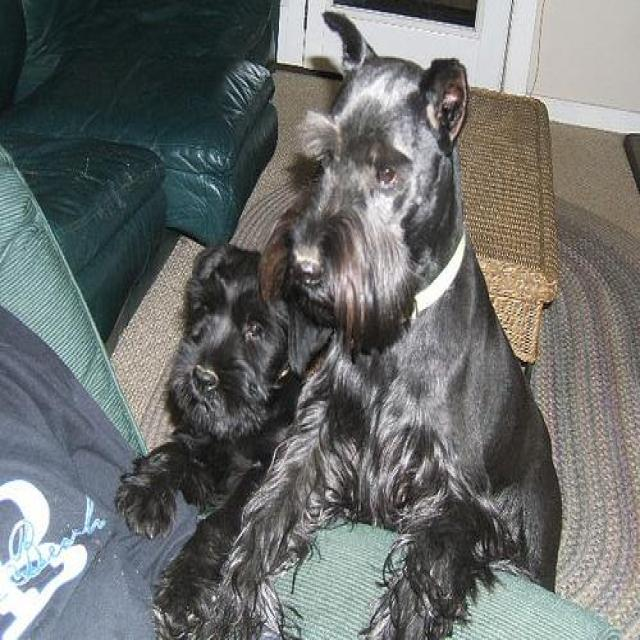standard_schnauzer: (203, 11, 562, 638), (119, 240, 330, 630)
